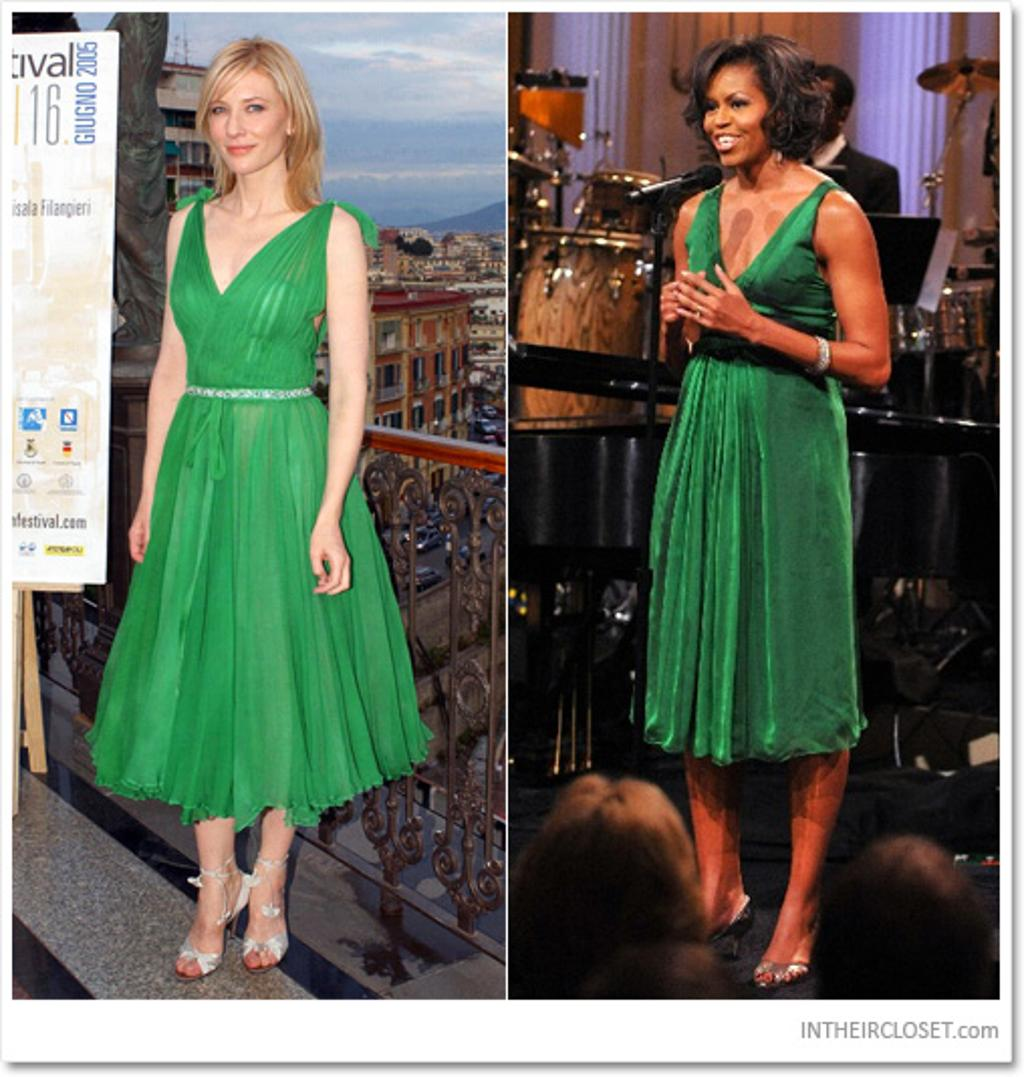face: (204, 69, 286, 170), (702, 57, 771, 168)
